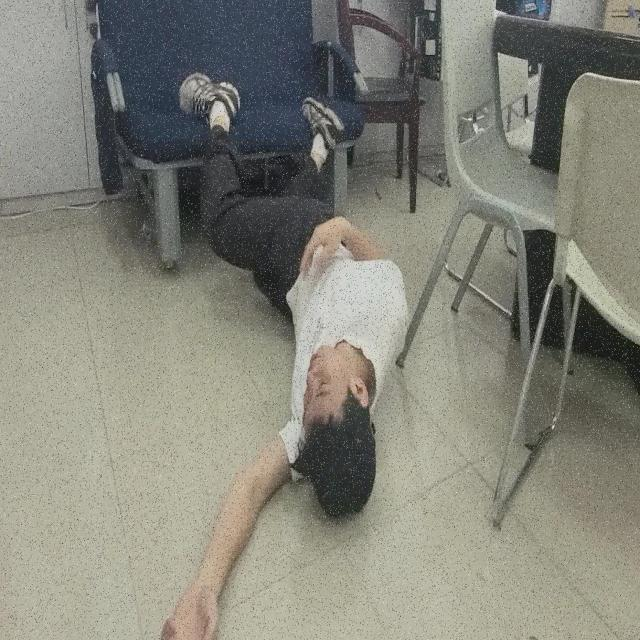fall: (156, 68, 410, 640)
